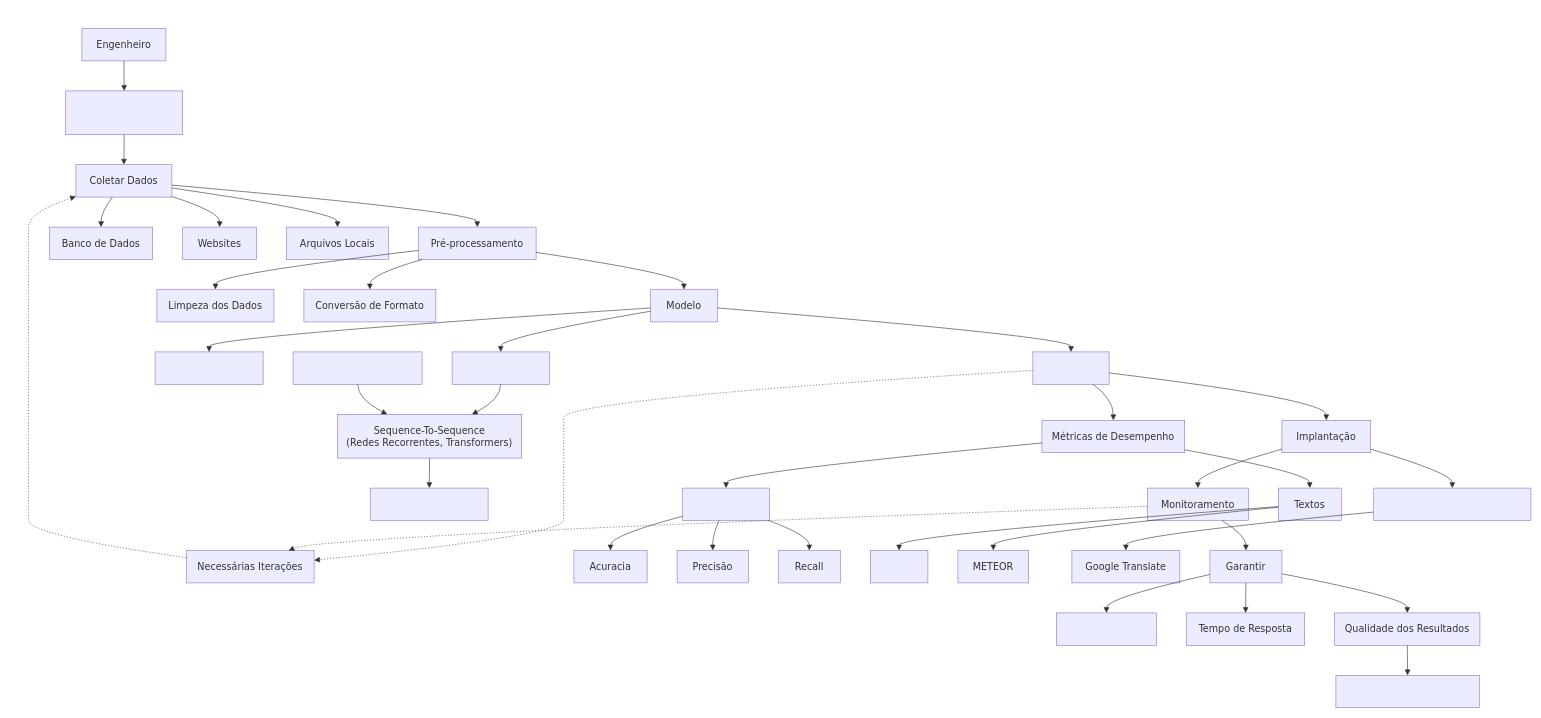
Some shapes in this 1541 by 718 pixel diagram are drawn without their labels. Each missing label, with the box of its shape:
Avaliação: (1032, 351, 1109, 384)
BLEU: (870, 550, 928, 583)
Definição Tipo: (452, 351, 549, 384)
Disponibilizar para Consumo: (1373, 488, 1531, 520)
Hiperparametros: (154, 351, 263, 384)
Modelo Inglês -> Português: (65, 90, 183, 135)
Sequência de entrada: (292, 351, 422, 384)
Sequência de saída: (370, 488, 488, 520)
Sistema Online: (1056, 612, 1156, 645)
Tradicionais: (682, 488, 770, 520)
Traduções estão corretas: (1335, 675, 1479, 708)
